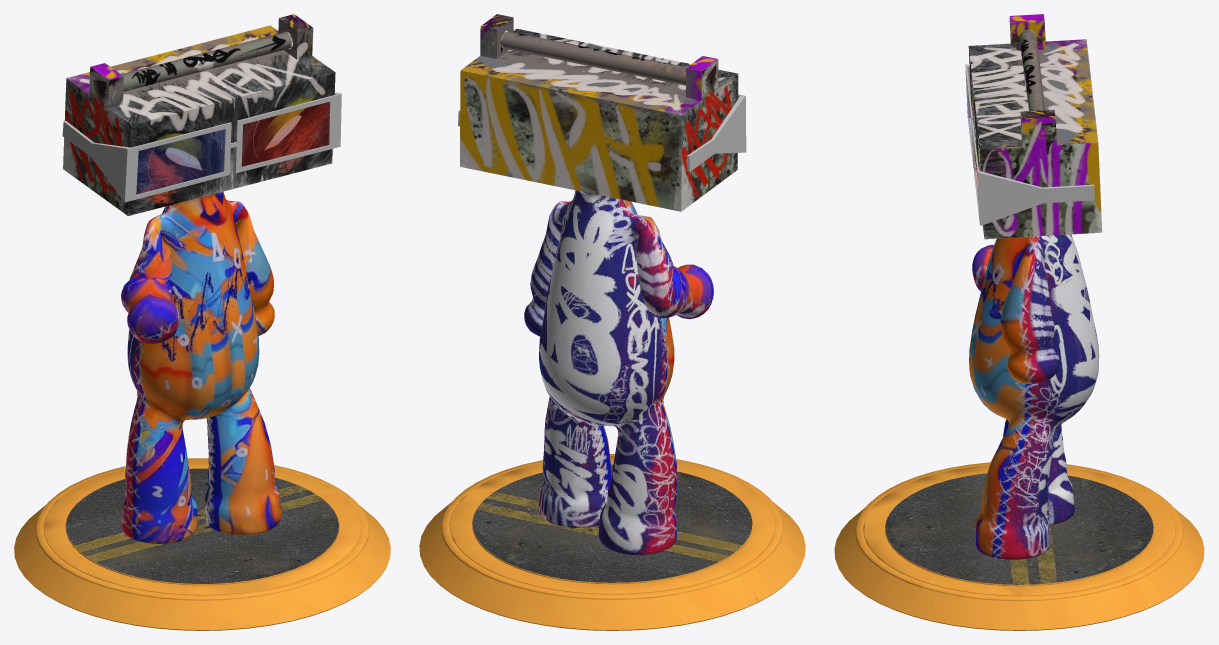
3 views of the same model, side by side, from view 1: azimuth 30°, elevation 25°; view 2: azimuth 150°, elevation 25°; view 3: azimuth 270°, elevation 25° (orthographic). The views are drawn at different scales.
Bounding box in the file's own units: 1.45 × 2.12 × 1.45.
7 materials, 4 textured.
